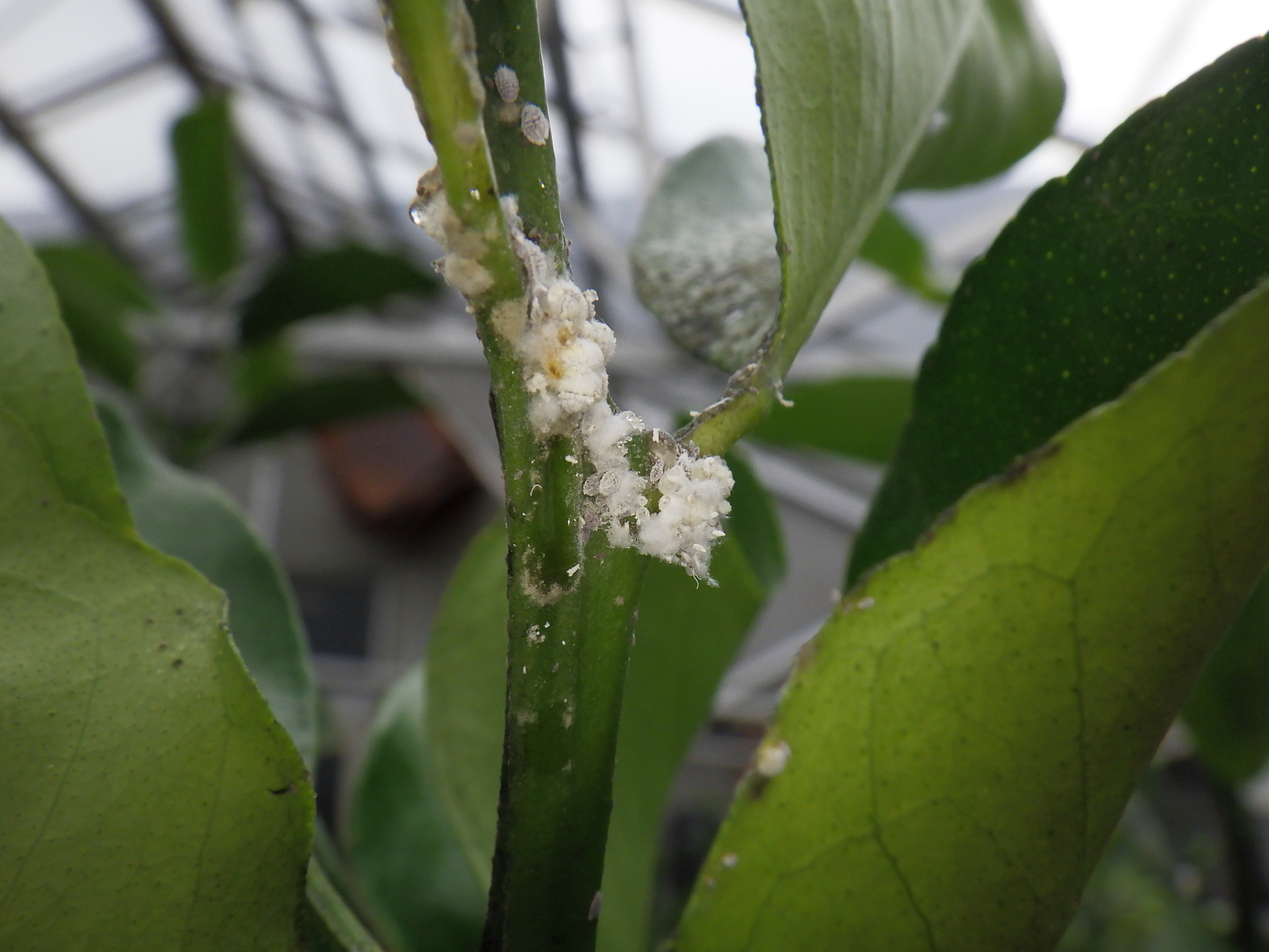Scale_Insect: (519, 280, 615, 434), (638, 451, 734, 582), (580, 403, 648, 547), (520, 103, 550, 144), (493, 64, 519, 103)
